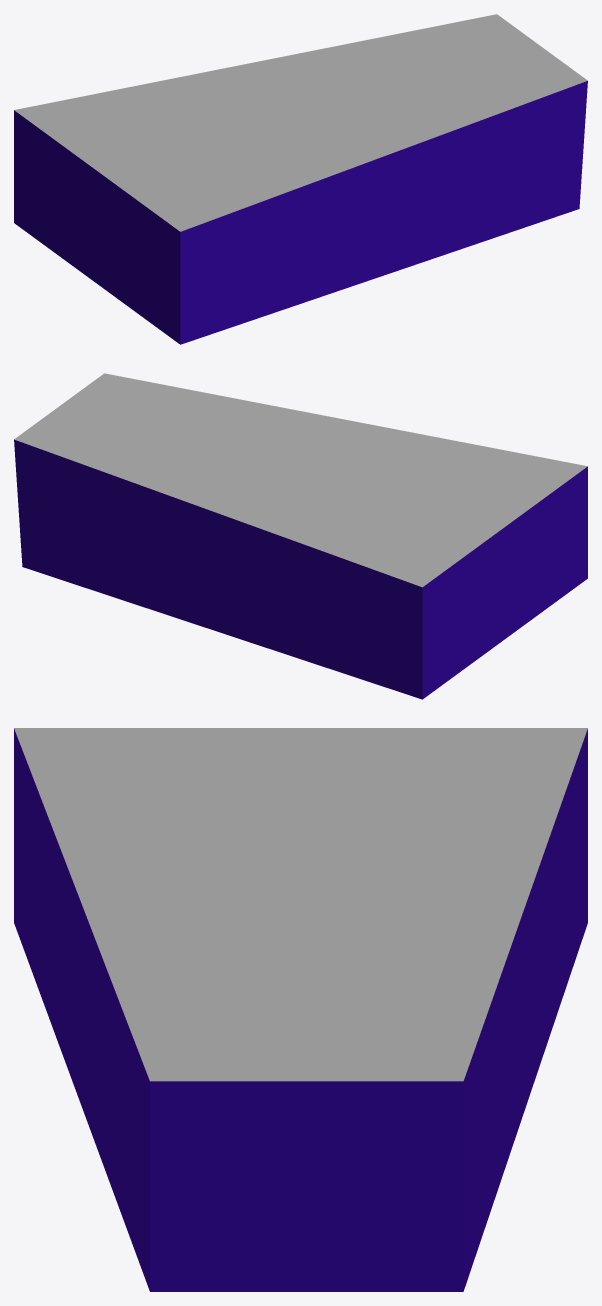
File: Shard_S_4_N_2.fbx
The picture shows the model from 3 angles, top to bottom: view 1: azimuth 30°, elevation 25°; view 2: azimuth 150°, elevation 25°; view 3: azimuth 270°, elevation 25°; orthographic projection. The views are drawn at different scales.
Visible parts, largest first — view 1: pCube1; view 2: pCube1; view 3: pCube1.
Part boxes in pixels (box(x1,y1,x2,y2)): pCube1: box(14, 14, 587, 344); pCube1: box(14, 373, 587, 699); pCube1: box(14, 728, 587, 1291).
Size of the model in its own units: 2.13 by 0.5734 by 1.37.
